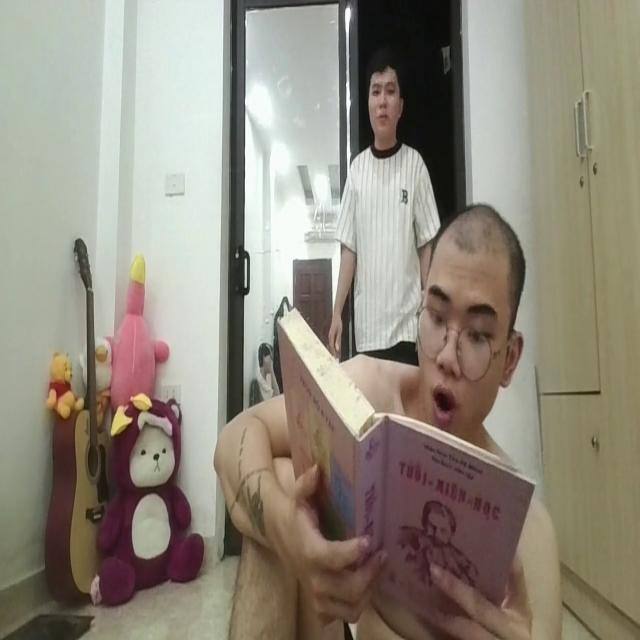book: (268, 297, 541, 616)
extra_person: (323, 46, 438, 372)
student: (221, 195, 562, 640)
